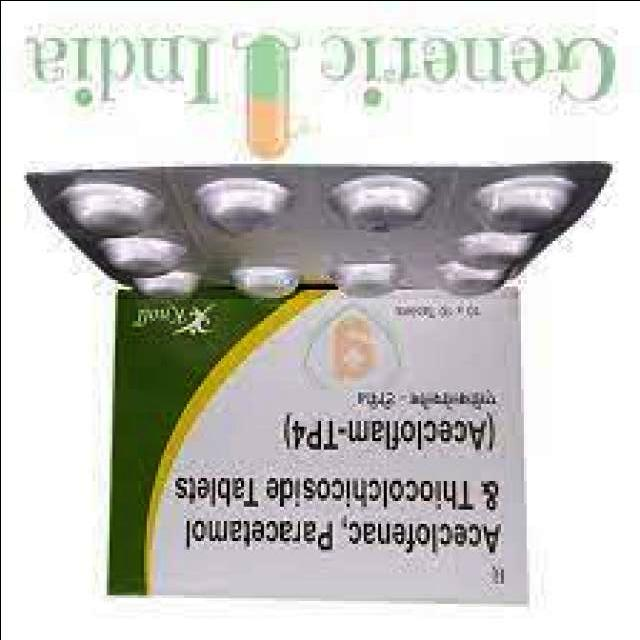authentic: (99, 295, 540, 618), (6, 151, 622, 298)
